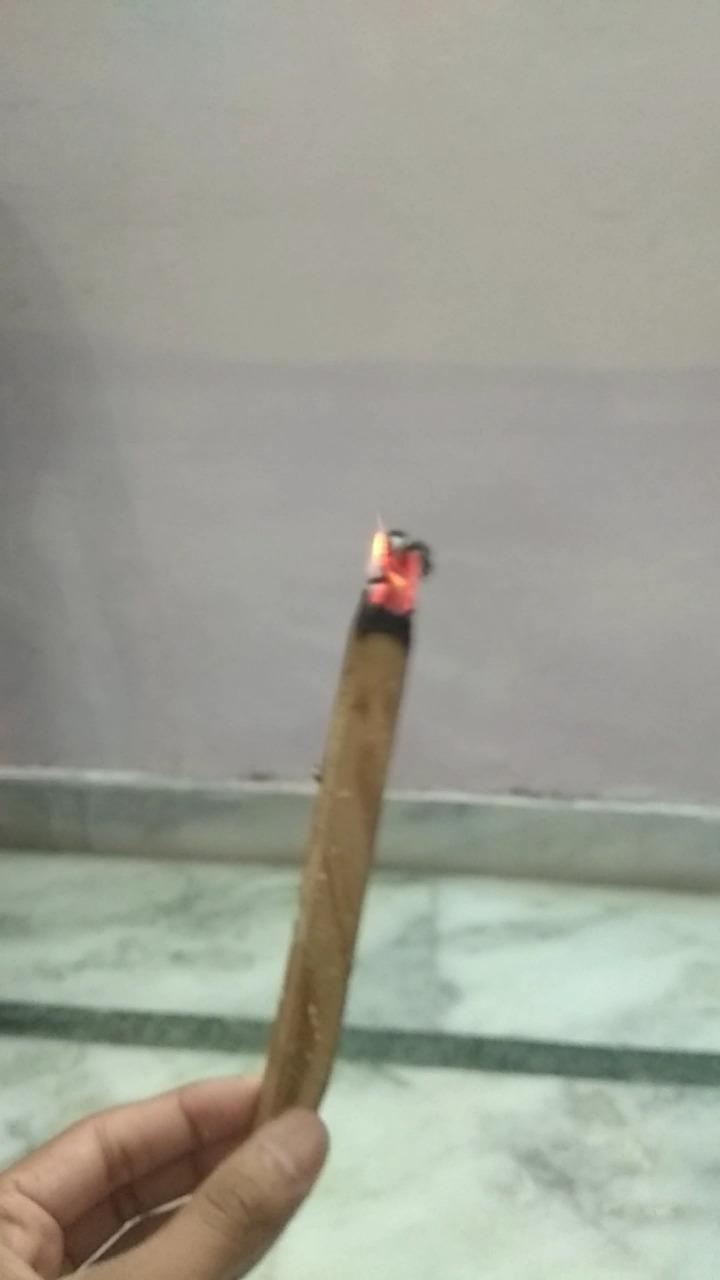fire: (338, 526, 444, 622)
